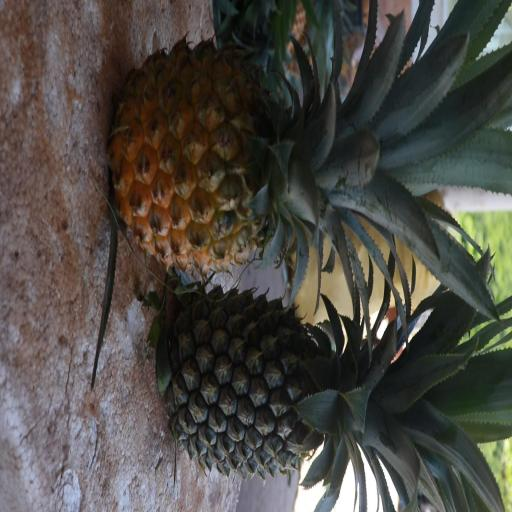Pineapple - v8 v1: (124, 56, 468, 274)
